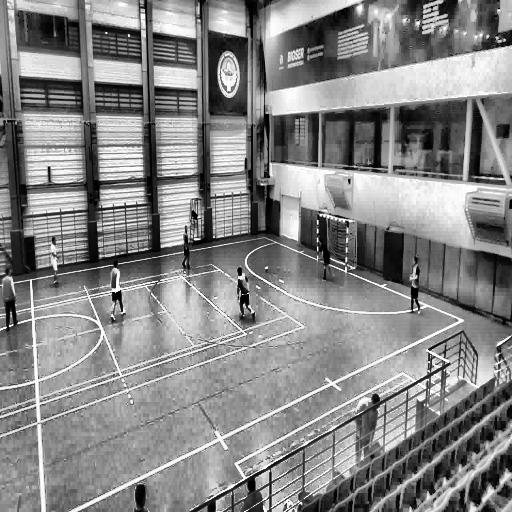ball: (264, 266, 268, 273)
player: (355, 393, 380, 467), (109, 258, 127, 321), (236, 268, 254, 322), (2, 267, 17, 330), (409, 255, 421, 314), (318, 239, 332, 281), (50, 236, 60, 285), (182, 224, 190, 270)
